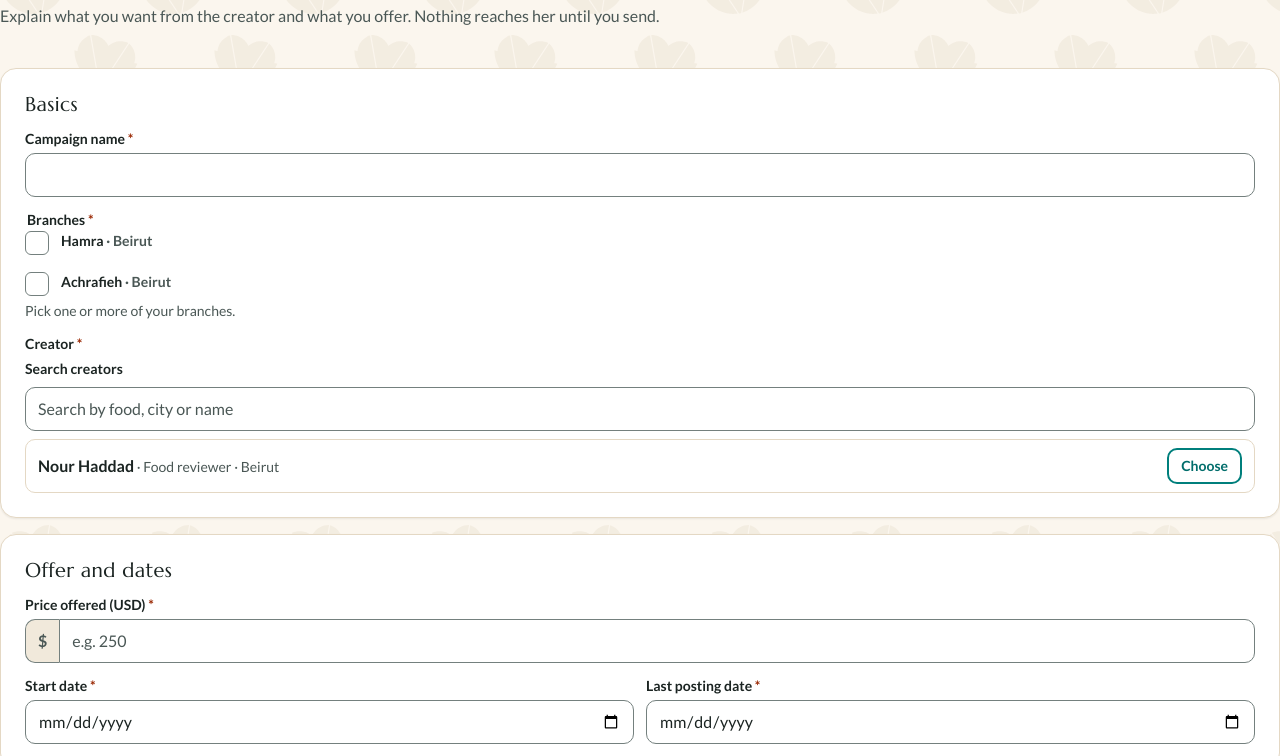
saves a draft with only a name, says only the brand can see it, and reopens it at the edit address
The width and height of the screenshot is (1280, 756).
Type "Weekend brunch" into the field labelled "Campaign name *".
click(640, 175); type("Weekend brunch")  # box [25,153,1255,197]
(page scrolled)
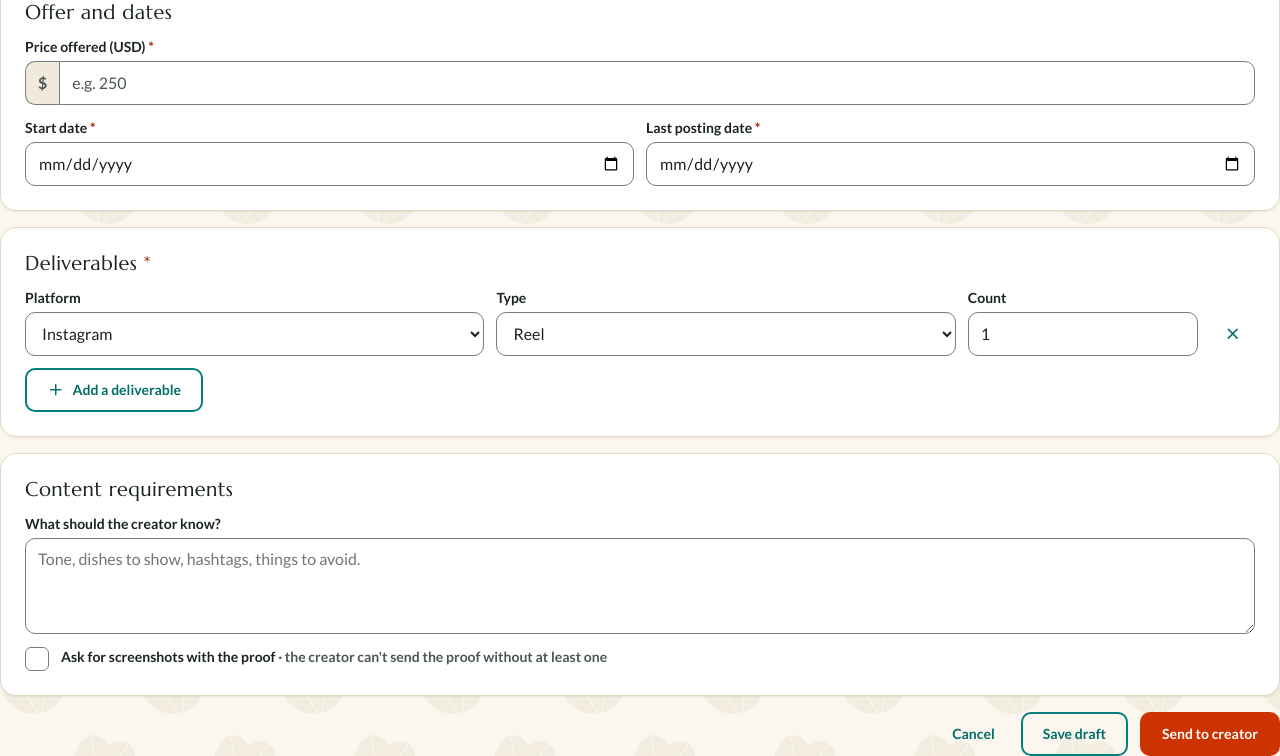
Click the button "Save draft".
click(1074, 734)  # box [1021,712,1128,755]
(page scrolled)
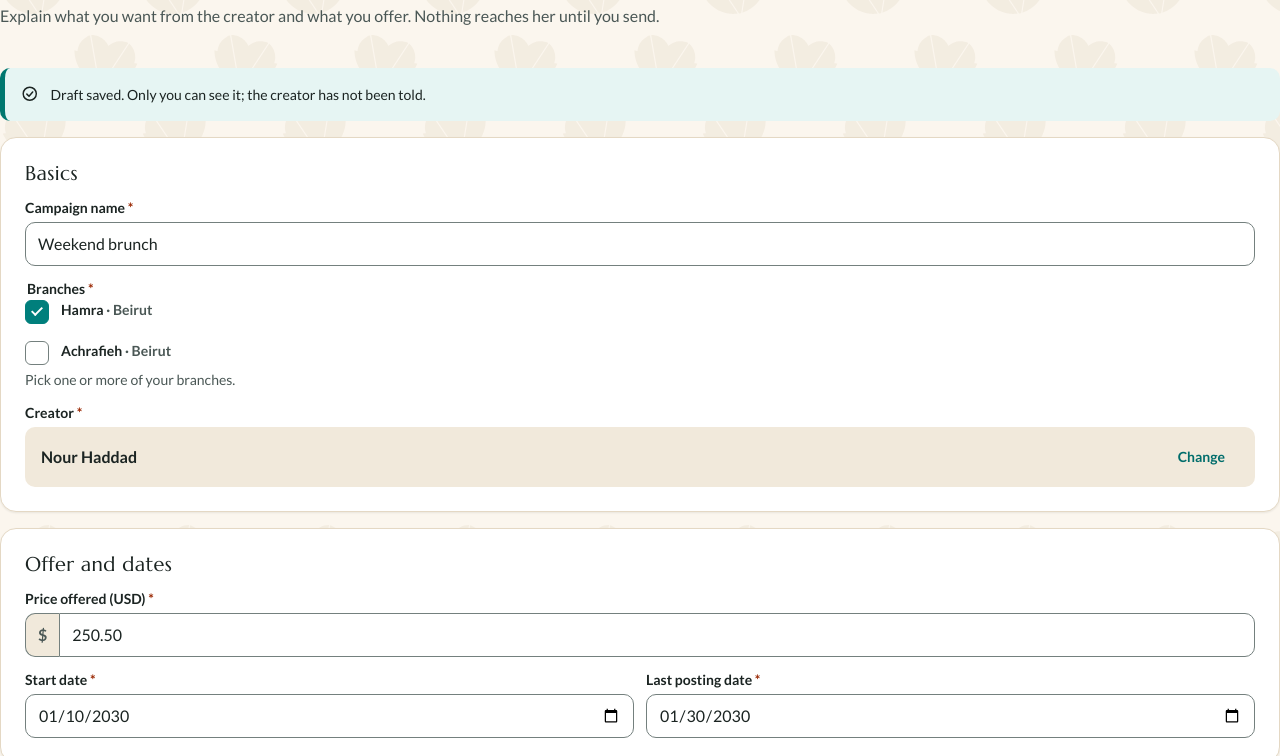
Now the text "Draft saved. Only you can see it; the creator has not been told." is shown, box [50,84,426,105]
